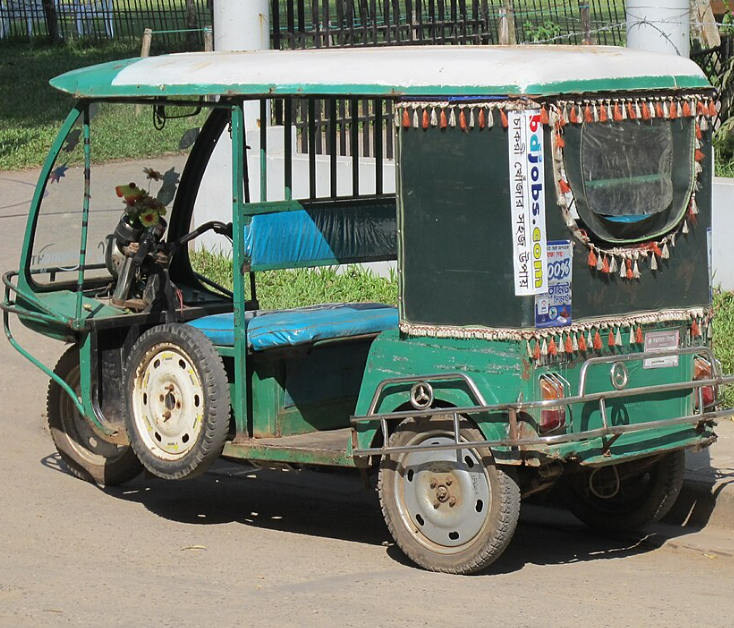auto-ricksaw: (10, 46, 731, 580)
